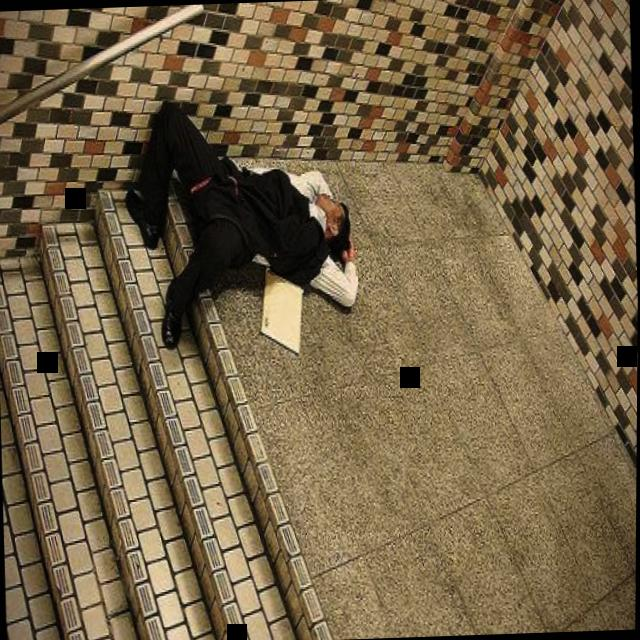Fall-Detected: (111, 71, 369, 353)
